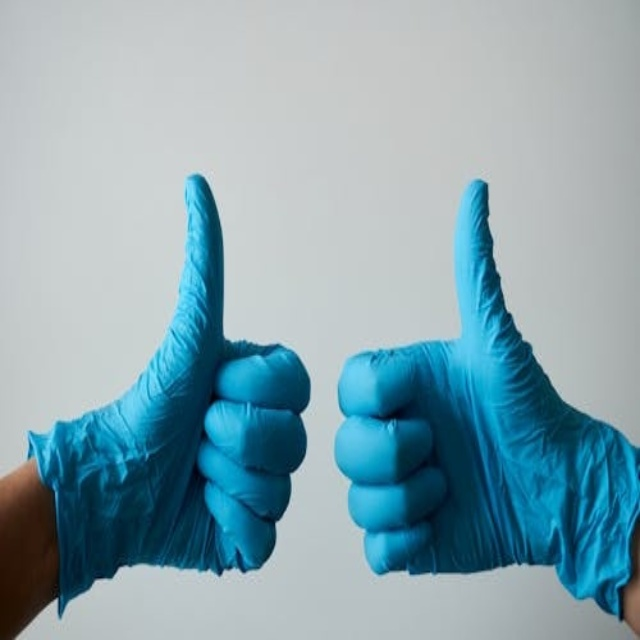Guantes: (333, 177, 637, 620), (22, 171, 310, 612)
